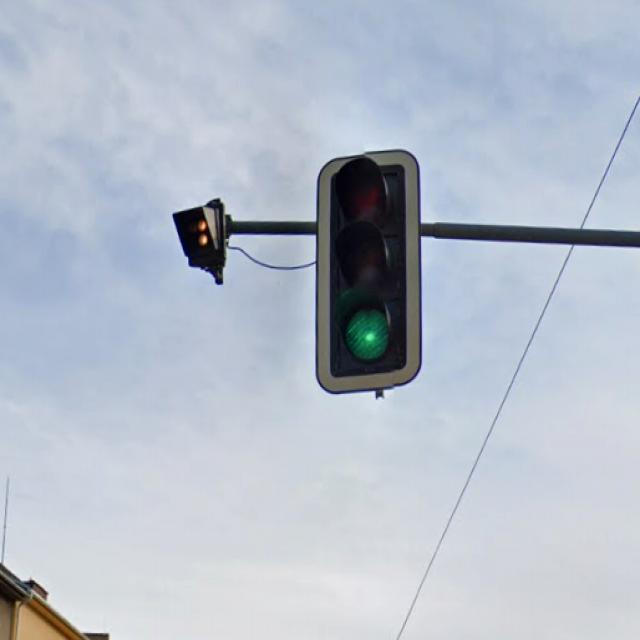green_light: (315, 149, 423, 394)
